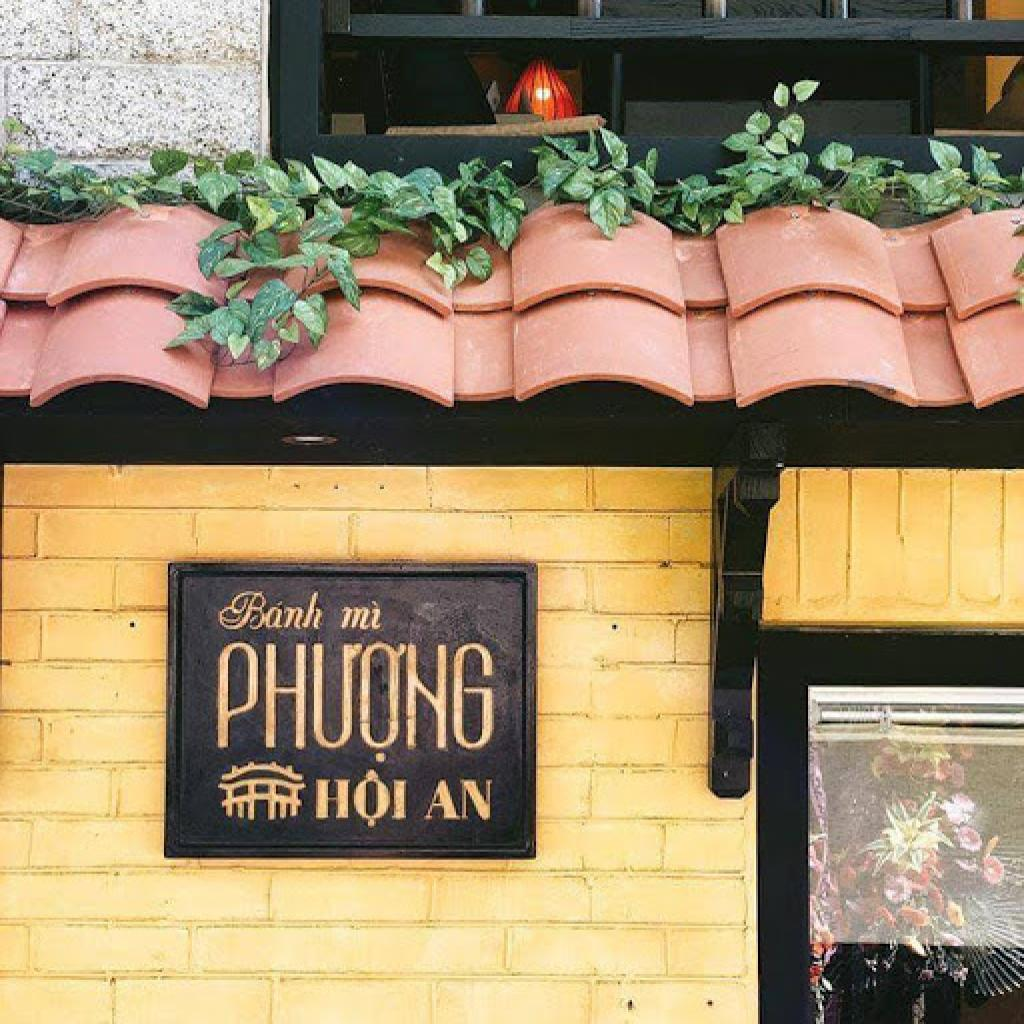text: (216, 640, 498, 766), (314, 768, 410, 832), (214, 589, 330, 633), (336, 599, 384, 633)
